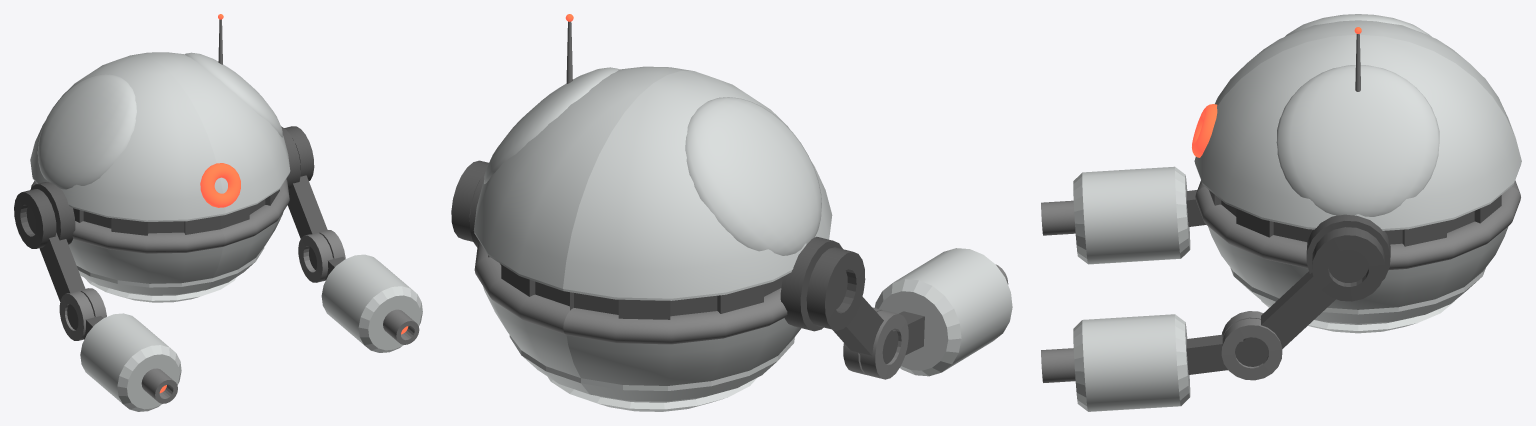
The model's file is DRONE MODEL.fbx.
The picture shows the model from 3 angles, left to right: view 1: azimuth 30°, elevation 25°; view 2: azimuth 150°, elevation 25°; view 3: azimuth 270°, elevation 25°; orthographic projection. The views are drawn at different scales.
Visible parts, largest first — view 1: polySurface26; view 2: polySurface26; view 3: polySurface26.
Part boxes in pixels (x1,y1,x2,y2): polySurface26: (14, 14, 422, 411); polySurface26: (451, 14, 1012, 411); polySurface26: (1041, 14, 1521, 411).
Bounding box in the file's own units: 0.0386 × 0.0331 × 0.0421.
